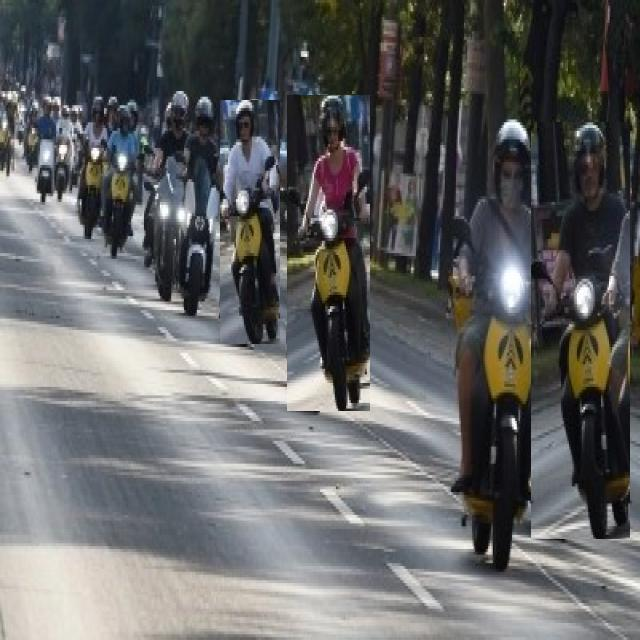motorcycle: (450, 120, 559, 570), (531, 122, 630, 539), (288, 95, 370, 411), (220, 100, 280, 344)
